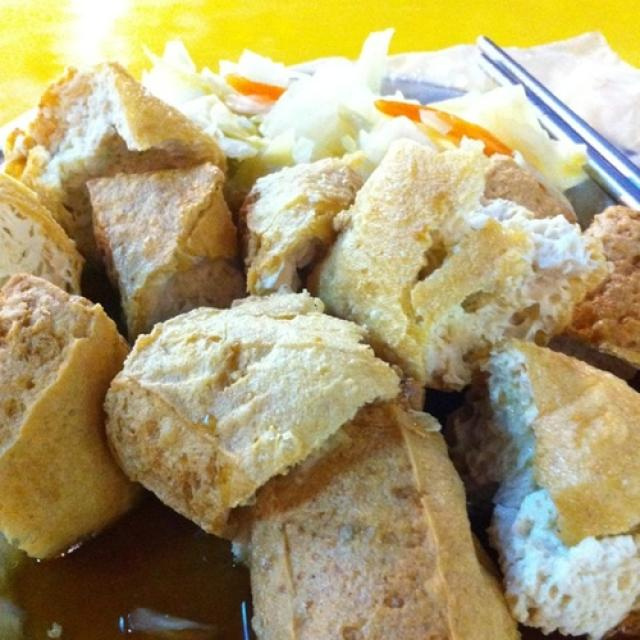豆腐料理: (36, 55, 612, 599)
